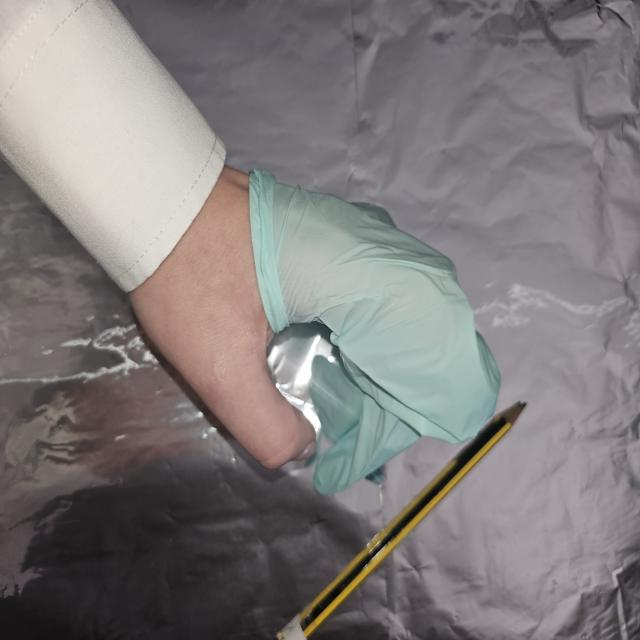glove_partial: (129, 165, 501, 495)
